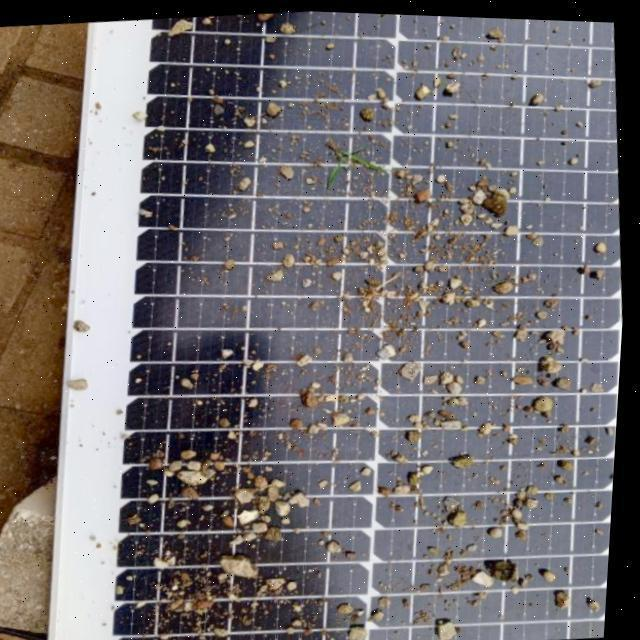Anomaly Solar Panel: (43, 2, 640, 640)
Surface Contaminant: (105, 9, 626, 640)
